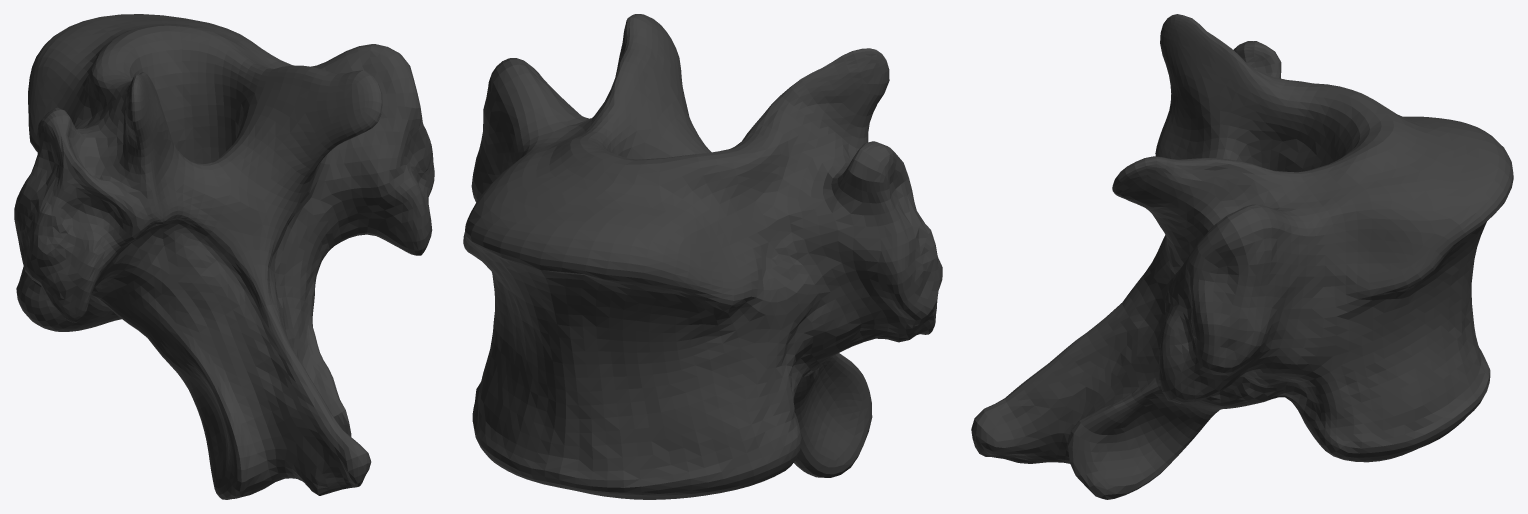
3 renders of one model, left to right at view 1: azimuth 30°, elevation 25°; view 2: azimuth 150°, elevation 25°; view 3: azimuth 270°, elevation 25°, orthographic. The views are drawn at different scales.
Parts seen in each view (by area): view 1: t10_low; view 2: t10_low; view 3: t10_low.
Boxes of the visible parts, box(x1,y1,x2,y2) form: t10_low: box(14, 14, 434, 499); t10_low: box(463, 14, 942, 499); t10_low: box(971, 14, 1513, 499).
Size of the model in its own units: 35.95 by 35.23 by 41.21.
Materials: 1 (1 with a texture image).
